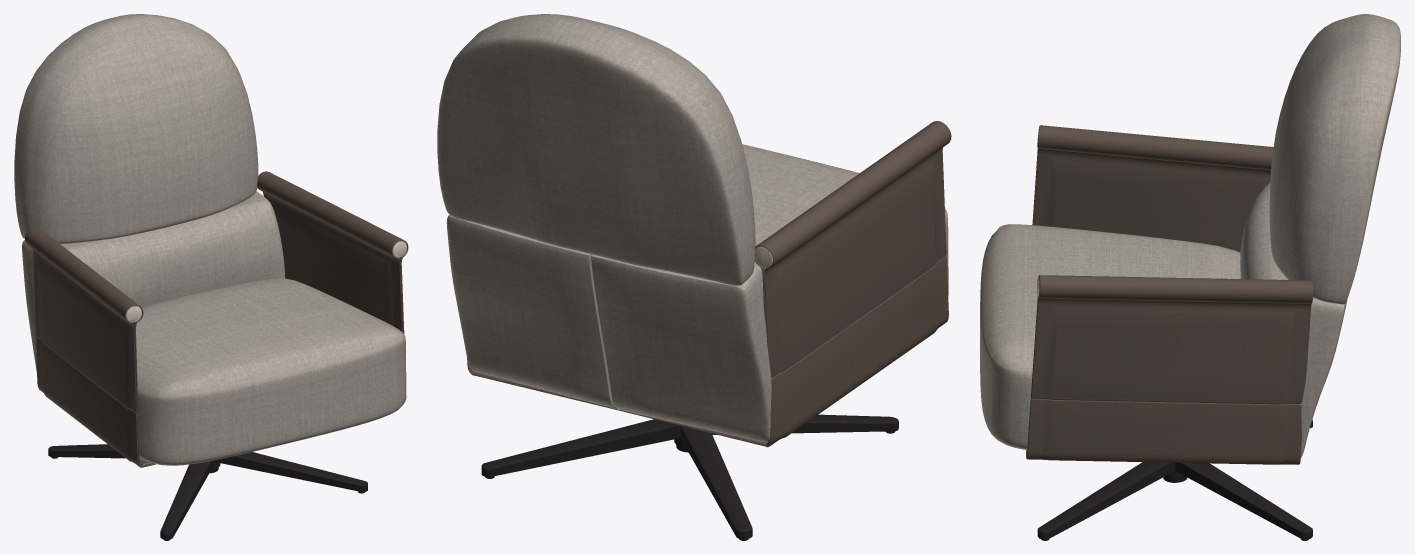
Rendered from beyl.gltf.
3 views of the same model, side by side, from view 1: azimuth 30°, elevation 25°; view 2: azimuth 150°, elevation 25°; view 3: azimuth 270°, elevation 25° (orthographic). The views are drawn at different scales.
Parts seen in each view (by area): view 1: beyl_gltf; view 2: beyl_gltf; view 3: beyl_gltf.
Part boxes in pixels (bbox=[...]): beyl_gltf: bbox=[14, 14, 408, 540]; beyl_gltf: bbox=[437, 14, 951, 540]; beyl_gltf: bbox=[980, 14, 1400, 540].
Size of the model in its own units: 0.7472 by 0.988 by 0.8301.
1 material, 1 textured.
